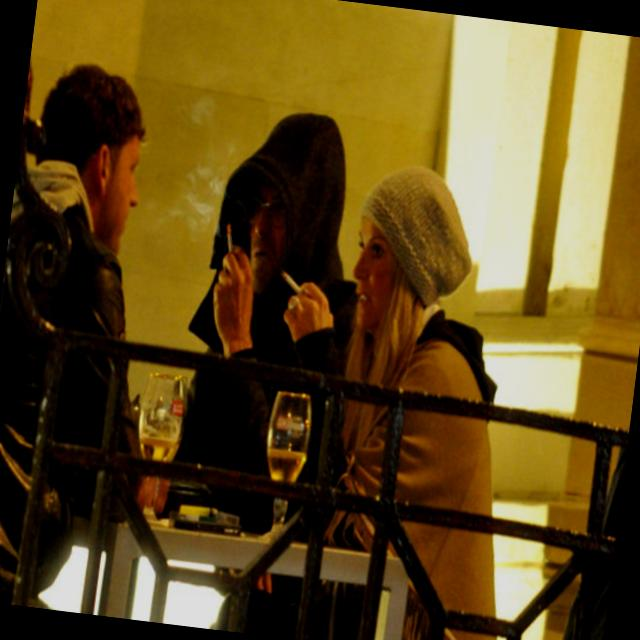cigarette: (278, 268, 306, 302), (219, 219, 237, 268)
